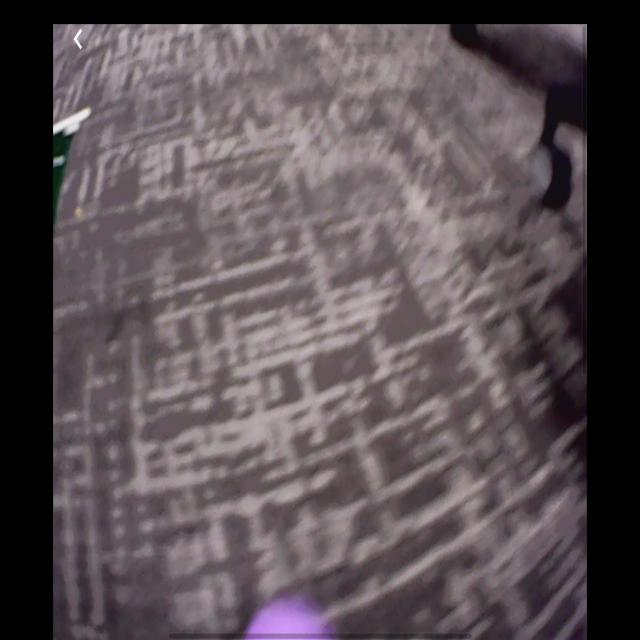ball: (243, 606, 330, 640)
